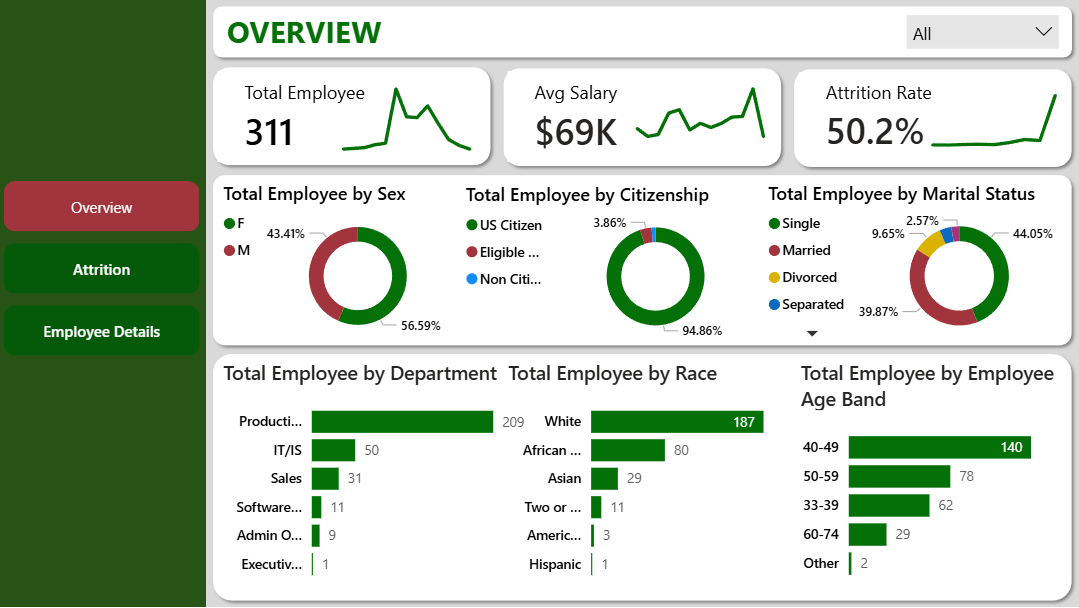

The dashboard page shown, as its layout file describes it:
{"tool":"powerbi","page":{"name":"Overview","canvas":[1280,720],"ordinal":0},"visuals":[{"type":"group","id":"g1","title":"Group 1","box":[353,141.8,258.2,89.9],"z":0},{"type":"cardVisual","fields":{"Data":["_measures.Total Employee"]},"box":[353,150.6,163.5,81],"z":0,"group":"g1"},{"type":"cardVisual","fields":{"Data":["_measures.Avg Salary"]},"box":[611.3,151.5,139.5,81.2],"z":0,"group":"g2"},{"type":"cardVisual","fields":{"Data":["_measures.Attrition Rate"]},"box":[870.2,152.5,144.8,78.1],"z":0,"group":"g3"},{"type":"group","id":"g2","title":"Group 1","box":[611.3,135.7,262,96.9],"z":1000},{"type":"lineChart","fields":{"Y":["_measures.Avg Salary"],"Category":["Date Table.Year"]},"box":[702.9,135.7,170.3,96.2],"z":1000,"group":"g2"},{"type":"lineChart","fields":{"Y":["_measures.Total Employee"],"Category":["Date Table.Year"]},"box":[440.9,141.8,170.3,85.2],"z":1000,"group":"g1"},{"type":"lineChart","fields":{"Y":["_measures.Attrition Rate"],"Category":["Date Table.Year"]},"box":[974.4,152.1,138.7,71.4],"z":1000,"group":"g3"},{"type":"group","id":"g3","title":"Group 1","box":[870.2,152.1,242.9,78.5],"z":2000},{"type":"donutChart","fields":{"Y":["_measures.Total Employee"],"Category":["HRDataset.Sex"]},"box":[353,247.3,215.7,149.7],"z":3000},{"type":"donutChart","fields":{"Y":["_measures.Total Employee"],"Category":["HRDataset.CitizenDesc"]},"box":[568.7,248.6,269.2,148.4],"z":4000},{"type":"donutChart","fields":{"Y":["_measures.Total Employee"],"Category":["HRDataset.MaritalDesc"]},"box":[838,247.3,272,149.7],"z":5000},{"type":"barChart","fields":{"Category":["HRDataset.Department"],"Y":["_measures.Total Employee"]},"box":[353,408,283,207.4],"z":6000},{"type":"barChart","fields":{"Category":["HRDataset.RaceDesc"],"Y":["_measures.Total Employee"]},"box":[607.2,408,262.4,207.4],"z":7000},{"type":"barChart","fields":{"Category":["HRDataset.Employee Age Band"],"Y":["_measures.Total Employee"]},"box":[866.8,408,240.4,207.4],"z":8000},{"type":"slicer","fields":{"Values":["Date Table.Year"]},"box":[956.1,90.7,155.2,44],"z":9000},{"type":"textbox","box":[357.2,92,434.1,45.3],"z":10000},{"type":"bookmarkNavigator","box":[0,0,600,50],"z":11000},{"type":"pageNavigator","box":[163.5,229.4,174.5,195.1],"z":12000}]}

Visuals, with their boxes in screenshot pixels (x1, y1, x2, y2), scaled from the page's 1280x720 canvas onto the 1079x608 screenshot:
"Group 1" group: [x1=298, y1=120, x2=515, y2=196]
cardVisual - _measures.Total Employee: [x1=298, y1=127, x2=435, y2=196]
cardVisual - _measures.Avg Salary: [x1=515, y1=128, x2=633, y2=197]
cardVisual - _measures.Attrition Rate: [x1=734, y1=129, x2=856, y2=195]
"Group 1" group: [x1=515, y1=115, x2=736, y2=196]
lineChart - _measures.Avg Salary x Date Table.Year: [x1=593, y1=115, x2=736, y2=196]
lineChart - _measures.Total Employee x Date Table.Year: [x1=372, y1=120, x2=515, y2=192]
lineChart - _measures.Attrition Rate x Date Table.Year: [x1=821, y1=128, x2=938, y2=189]
"Group 1" group: [x1=734, y1=128, x2=938, y2=195]
donutChart - _measures.Total Employee x HRDataset.Sex: [x1=298, y1=209, x2=479, y2=335]
donutChart - _measures.Total Employee x HRDataset.CitizenDesc: [x1=479, y1=210, x2=706, y2=335]
donutChart - _measures.Total Employee x HRDataset.MaritalDesc: [x1=706, y1=209, x2=936, y2=335]
barChart - HRDataset.Department x _measures.Total Employee: [x1=298, y1=345, x2=536, y2=520]
barChart - HRDataset.RaceDesc x _measures.Total Employee: [x1=512, y1=345, x2=733, y2=520]
barChart - HRDataset.Employee Age Band x _measures.Total Employee: [x1=731, y1=345, x2=933, y2=520]
slicer - Date Table.Year: [x1=806, y1=77, x2=937, y2=114]
textbox: [x1=301, y1=78, x2=667, y2=116]
bookmarkNavigator: [x1=0, y1=0, x2=506, y2=42]
pageNavigator: [x1=138, y1=194, x2=285, y2=358]
